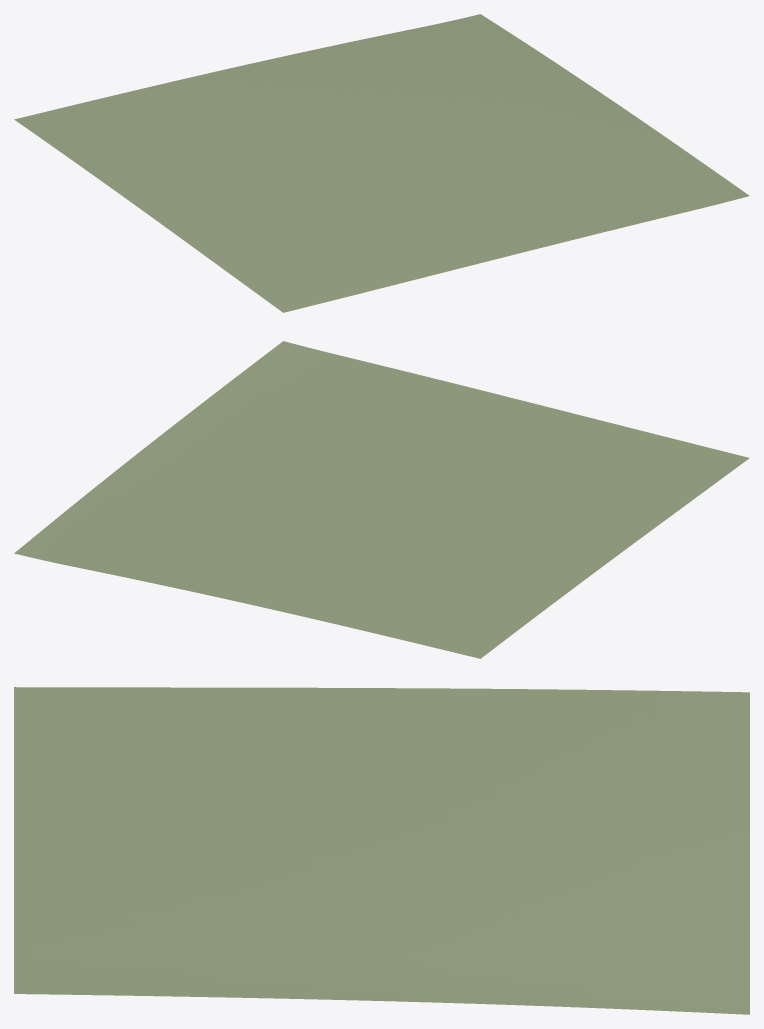
Rendered from desert-21-10.glb.
The picture shows the model from 3 angles, top to bottom: view 1: azimuth 30°, elevation 25°; view 2: azimuth 150°, elevation 25°; view 3: azimuth 270°, elevation 25°; orthographic projection. The views are drawn at different scales.
Visible parts, largest first — view 1: desert-21-10; view 2: desert-21-10; view 3: desert-21-10.
Part boxes in pixels (bbox=[...]): desert-21-10: bbox=[14, 14, 749, 312]; desert-21-10: bbox=[14, 341, 749, 658]; desert-21-10: bbox=[14, 687, 749, 1014].
Bounding box in the file's own units: 512 × 15.99 × 512.
